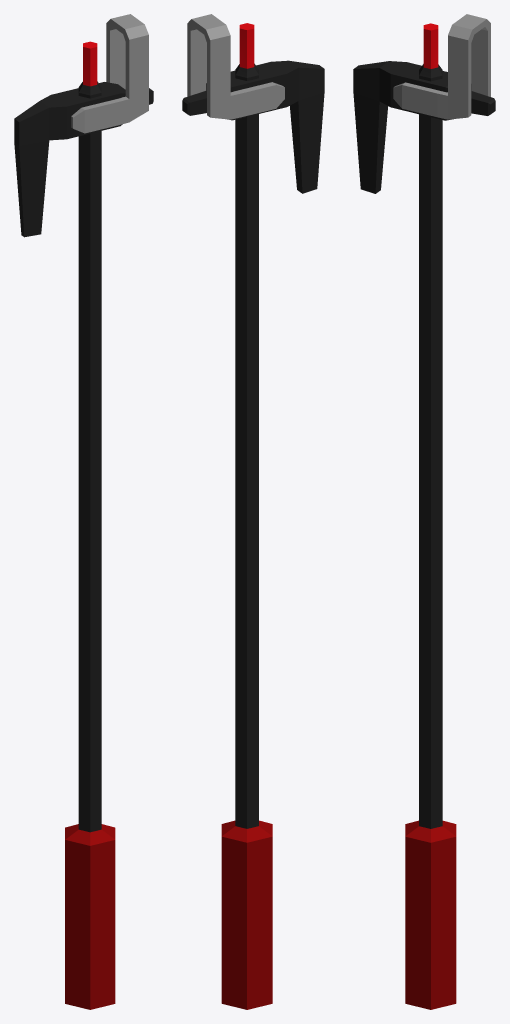
Rendered from SM_Aerial.fbx.
3 renders of one model, left to right at view 1: azimuth 30°, elevation 25°; view 2: azimuth 210°, elevation 25°; view 3: azimuth 330°, elevation 25°, orthographic.
Parts seen in each view (by area): view 1: Cylinder; view 2: Cylinder; view 3: Cylinder.
Boxes of the visible parts, x1,y1,x2,y2 form: Cylinder: [14, 14, 153, 1009]; Cylinder: [182, 14, 324, 1009]; Cylinder: [353, 14, 495, 1009].
Bounding box in the file's own units: 107 × 737 × 34.64.
